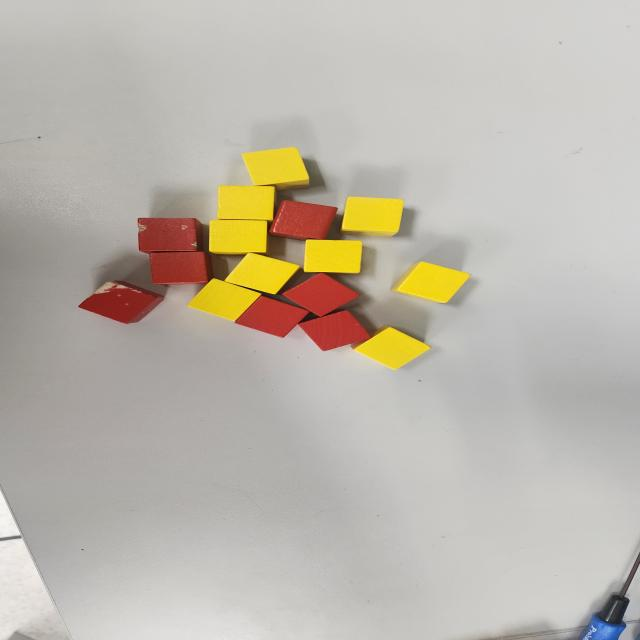broken: (78, 280, 166, 324), (136, 218, 204, 255)
red: (278, 274, 360, 318), (235, 294, 309, 338), (298, 309, 373, 351), (269, 200, 337, 240), (148, 251, 214, 286)
yellow: (352, 325, 432, 370), (390, 261, 472, 303), (186, 278, 262, 322), (223, 252, 301, 294), (242, 146, 311, 190), (341, 196, 405, 235), (208, 219, 268, 254), (302, 240, 363, 272), (217, 186, 276, 219)
